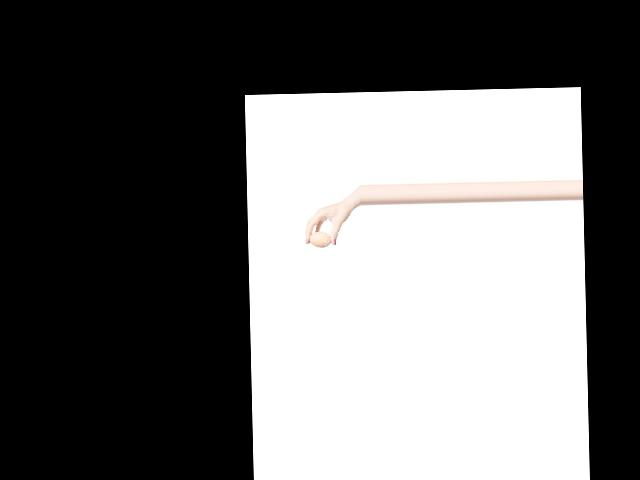egg: (309, 231, 331, 246)
